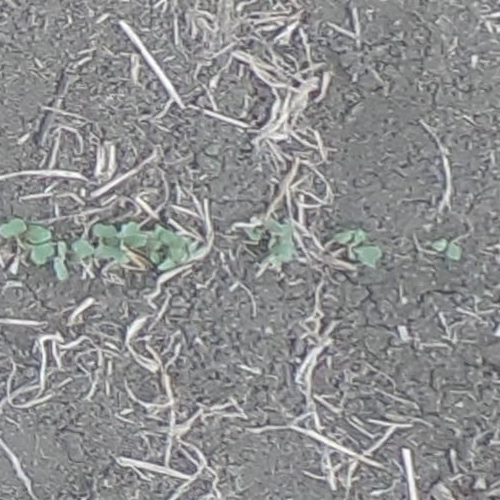plant: (0, 218, 93, 279), (125, 223, 189, 265), (337, 229, 385, 267), (267, 219, 297, 259), (94, 223, 123, 261), (434, 242, 462, 262)
